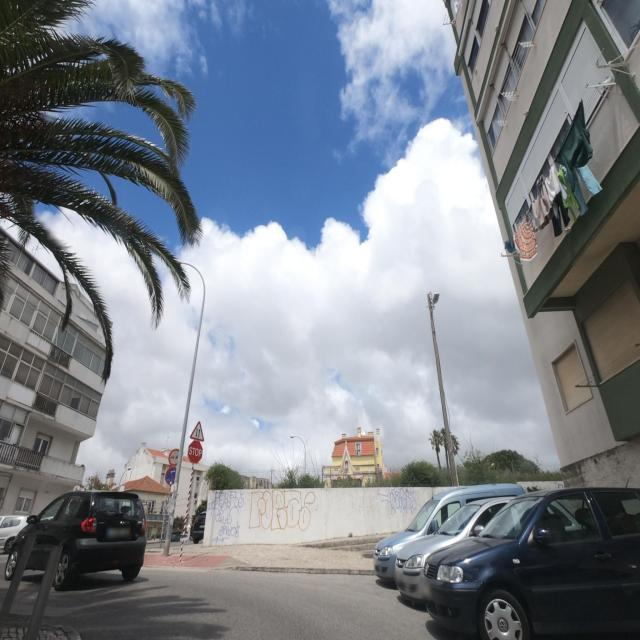car: (425, 487, 640, 640), (374, 484, 530, 591), (3, 488, 147, 590), (398, 500, 530, 608), (0, 514, 37, 555), (190, 510, 207, 544)
